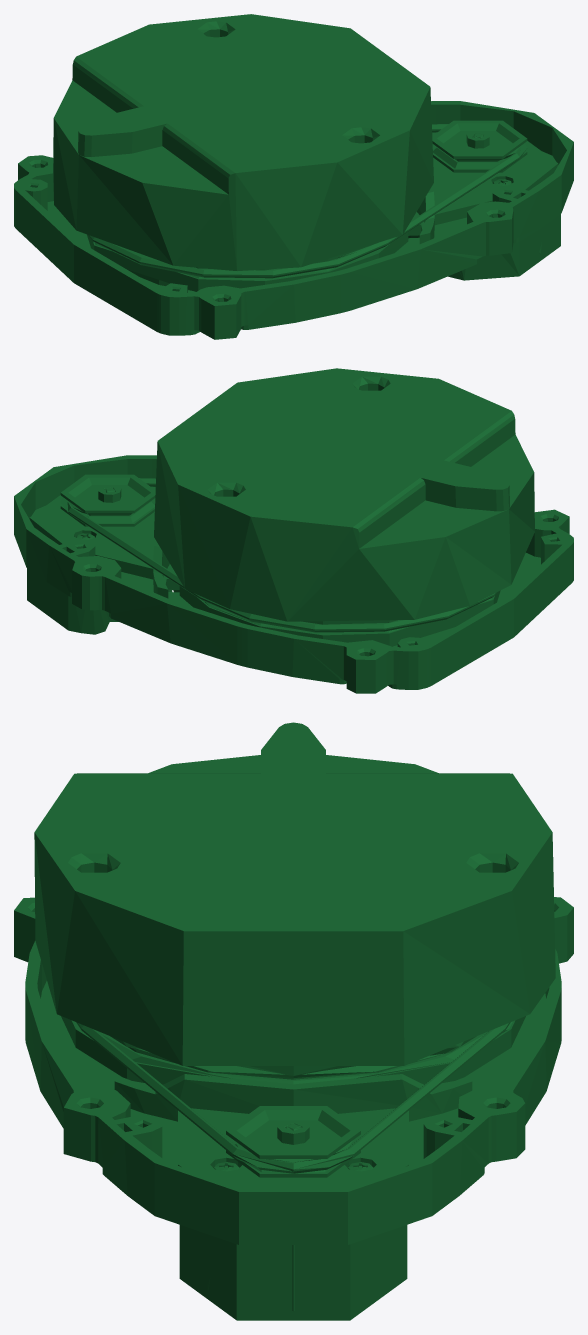
File: lds.dae
3 views of the same model, one above another, from view 1: azimuth 30°, elevation 25°; view 2: azimuth 150°, elevation 25°; view 3: azimuth 270°, elevation 25° (orthographic). The views are drawn at different scales.
Visible parts, largest first — view 1: lds; view 2: lds; view 3: lds.
Boxes of the visible parts, x1=… form: lds: x1=14, y1=14, x2=573, y2=339; lds: x1=14, y1=368, x2=573, y2=693; lds: x1=14, y1=722, x2=573, y2=1320.
Bounding box in the file's own units: 1.88 × 1.38 × 0.784.
